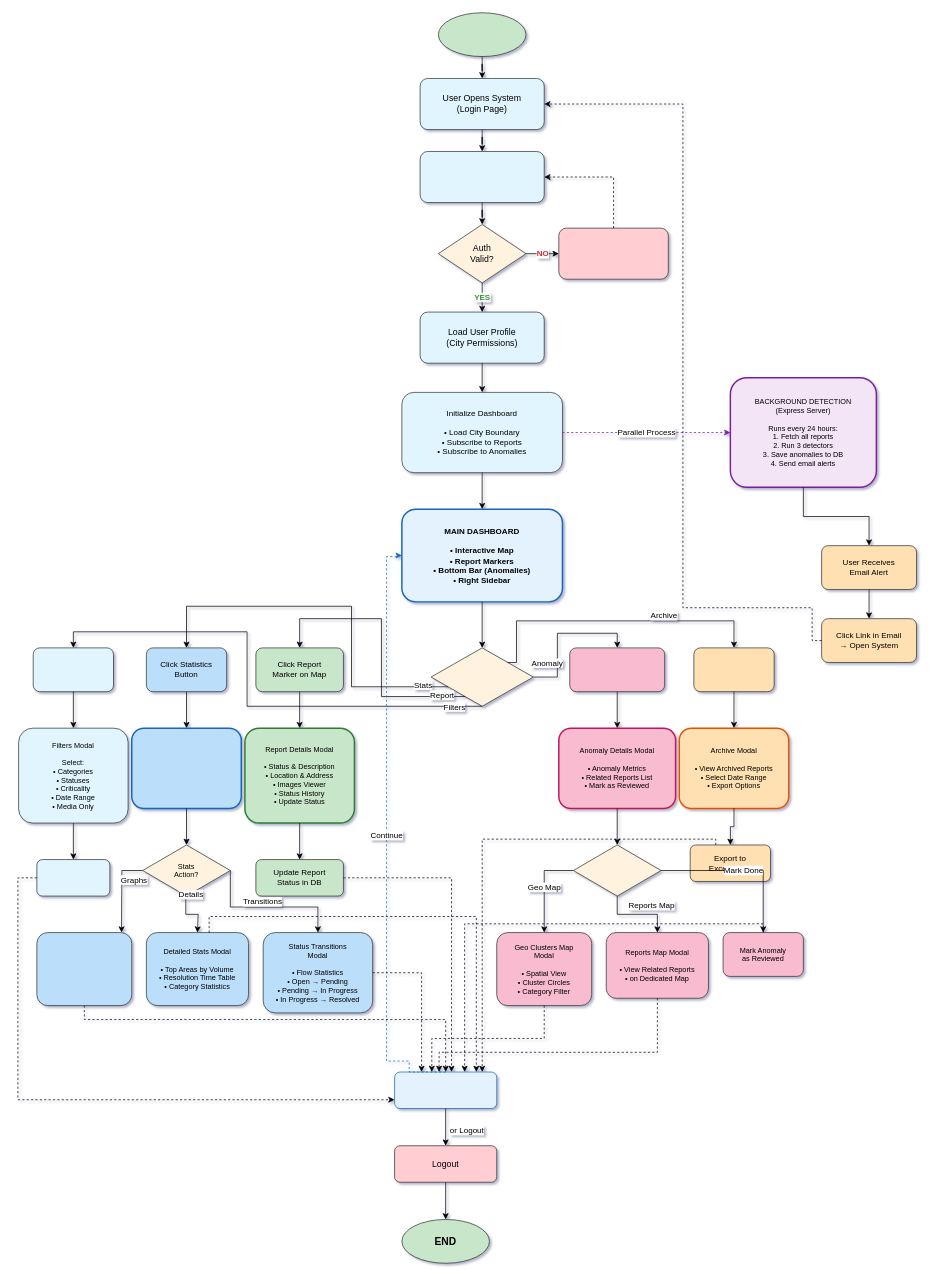
This 934x1280 diagram has some shape labels left out. Each missing label, with the centre of its shape:
"Anomaly Action?" belongs at (x=617, y=870).
"Apply Filters" belongs at (x=73, y=877).
"Click Anomaly Card (Bottom Bar)" belongs at (x=617, y=669).
"Click Archive Button" belongs at (x=733, y=669).
"Click Filters Button" belongs at (x=73, y=669).
"Enter Credentials (Email + Password)" belongs at (x=481, y=177).
"Graphs Modal • Detailed Charts • Monthly Trends • Category Breakdown" belongs at (x=84, y=969).
"Return to Dashboard" belongs at (x=445, y=1090).
"Show Error Message Return to Login" belongs at (x=613, y=253).
"START" belongs at (x=482, y=34).
"Statistics Modal • Summary Stats • Resolution Time Chart • Time Range Selection" belongs at (x=186, y=768).
"User Action?" belongs at (x=481, y=676).
